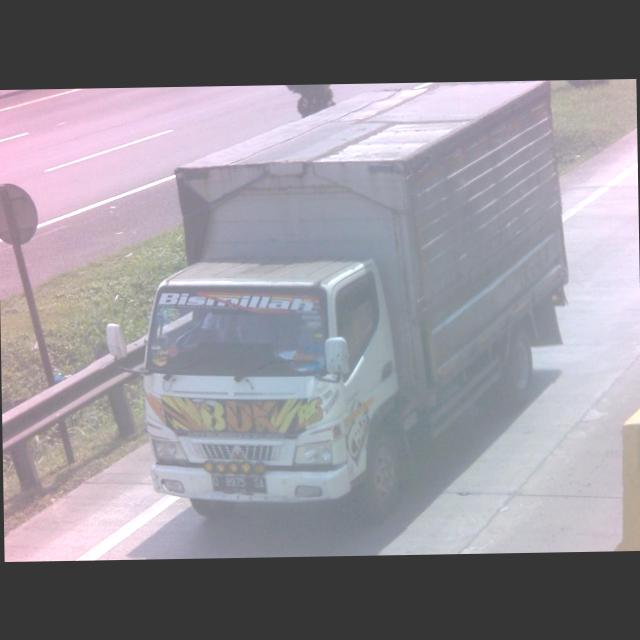plate: (208, 473, 270, 498)
